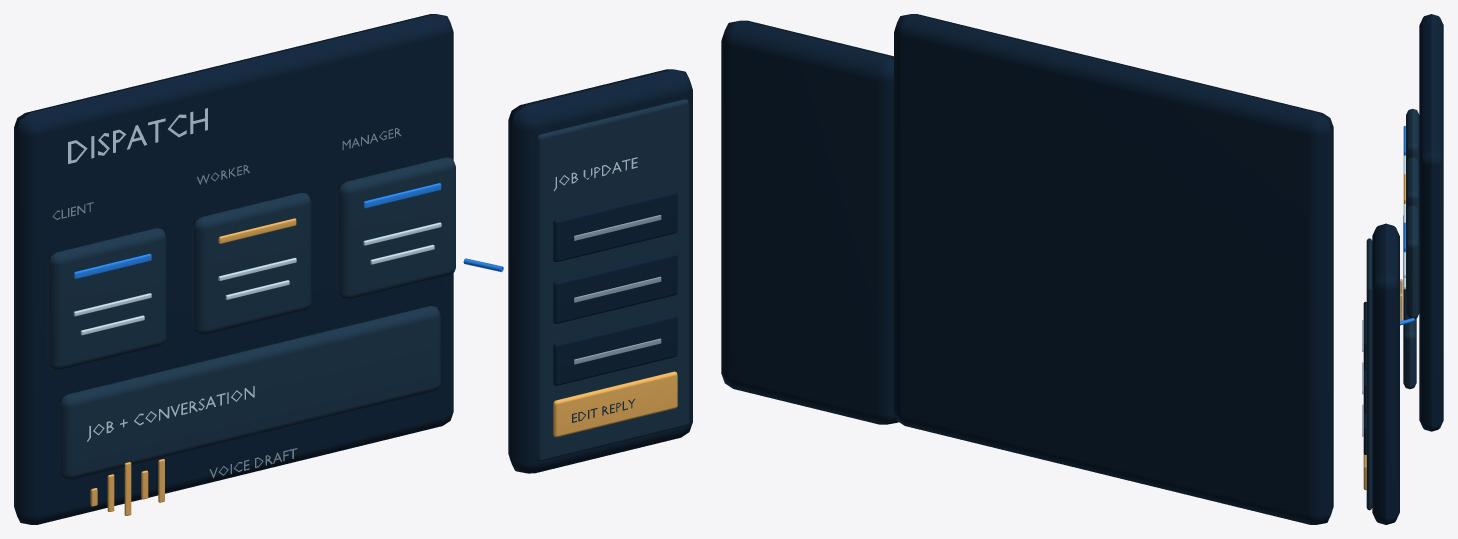
Rendered from services-hero.glb.
3 renders of one model, left to right at view 1: azimuth 30°, elevation 25°; view 2: azimuth 150°, elevation 25°; view 3: azimuth 270°, elevation 25°, orthographic. The views are drawn at different scales.
Visible parts, largest first — view 1: Dispatch board, Conversation band, Phone glass, Operations phone, Role job card CLIENT, Role job card WORKER, Role job card MANAGER, Suggested reply 1, Suggested reply 2, Suggested reply 0, Edit reply button, Dispatch title (+1 smaller); view 2: Dispatch board, Operations phone; view 3: Dispatch board, Operations phone, Phone glass, Role job card MANAGER, Conversation band, Role job card CLIENT, Role job card WORKER, Suggested reply 0, Suggested reply 2, Suggested reply 1, Edit reply button.
Part boxes in pixels (x1,y1,x2,y2): Dispatch board: (14,14,453,524); Conversation band: (59,306,440,479); Phone glass: (536,99,688,461); Operations phone: (508,69,692,473); Role job card CLIENT: (47,228,166,370); Role job card WORKER: (192,192,311,334); Role job card MANAGER: (337,157,455,299); Suggested reply 1: (553,252,677,323); Suggested reply 2: (553,314,677,385); Suggested reply 0: (553,190,677,261); Edit reply button: (553,371,677,437); Dispatch title: (68,108,207,163); Dispatch board: (894,14,1333,524); Operations phone: (721,20,898,424); Dispatch board: (1419,14,1443,431); Operations phone: (1372,223,1399,524); Phone glass: (1366,238,1372,510); Role job card MANAGER: (1406,205,1419,318); Conversation band: (1403,215,1416,389); Role job card CLIENT: (1406,108,1419,162); Role job card WORKER: (1406,157,1419,210); Suggested reply 0: (1363,301,1366,370); Suggested reply 2: (1363,411,1366,454); Suggested reply 1: (1363,369,1366,412); Edit reply button: (1363,454,1366,490).
Bounding box in the file's own units: 4.56 × 3.05 × 0.735.
